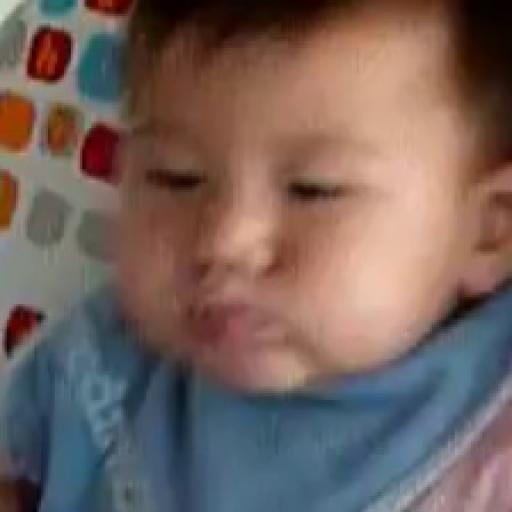Autism: (72, 0, 512, 413)
